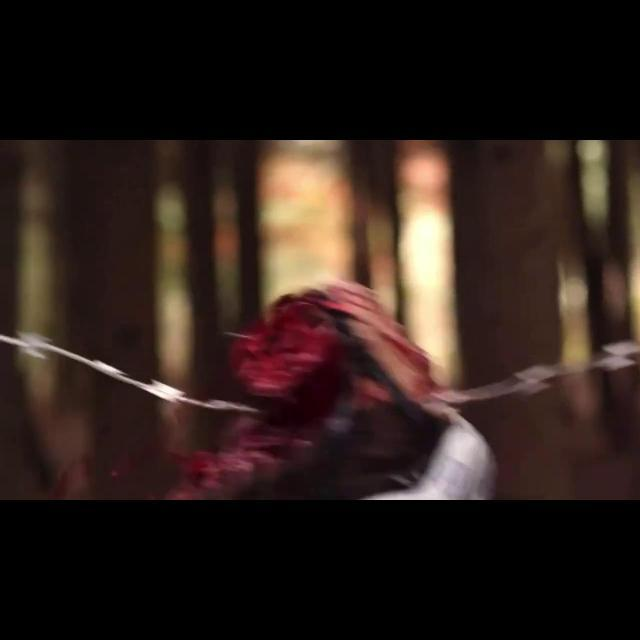blood: (173, 282, 435, 499)
